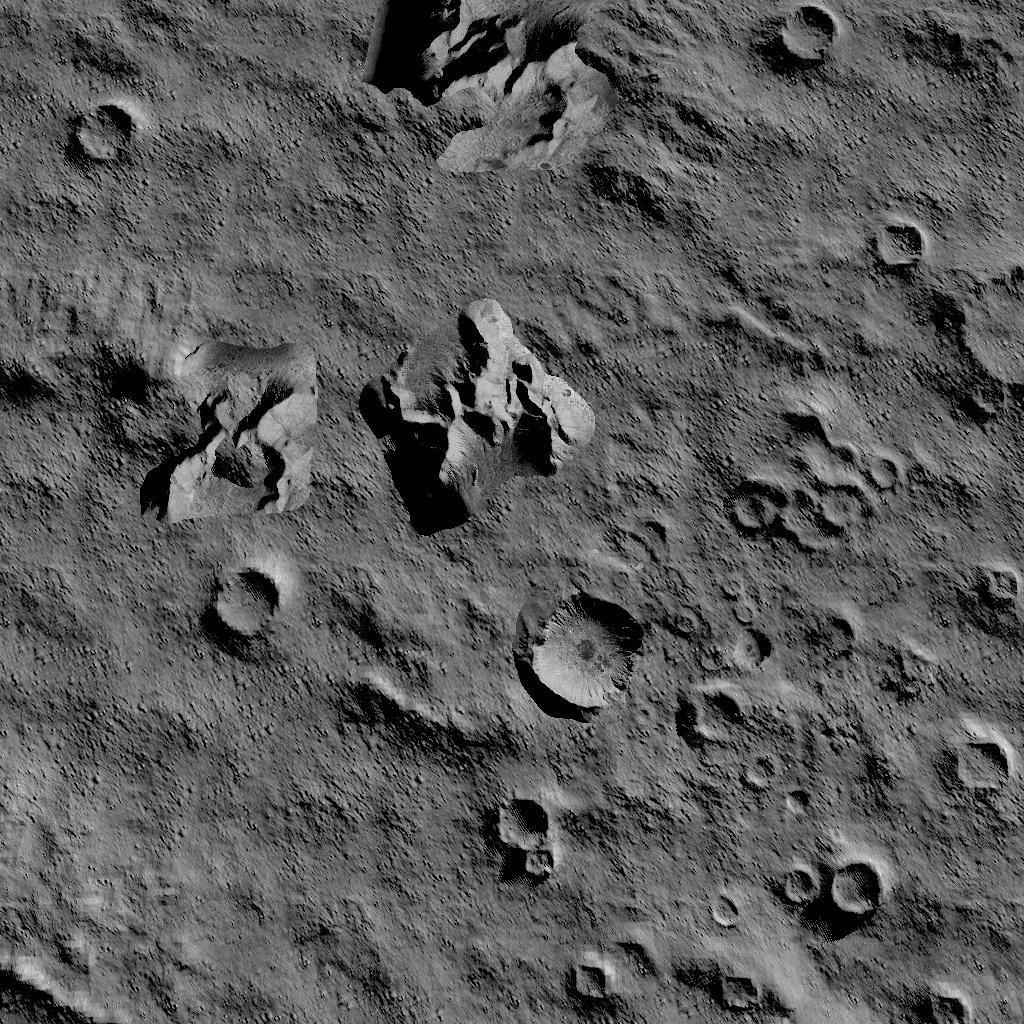Boulders: (358, 306, 597, 530), (363, 0, 639, 174), (101, 336, 314, 528)
Crater: (722, 410, 898, 558), (515, 596, 644, 721), (948, 268, 1024, 418), (203, 566, 282, 644), (779, 859, 885, 916), (488, 799, 560, 881), (64, 100, 141, 168), (675, 690, 749, 750), (773, 2, 842, 64), (947, 737, 1015, 798), (870, 221, 935, 276), (708, 966, 766, 1014), (972, 565, 1024, 609), (568, 959, 614, 1007), (723, 628, 768, 676), (917, 988, 975, 1024), (703, 892, 744, 932), (733, 756, 776, 786), (782, 795, 814, 822)
Plan surface: (3, 752, 475, 968), (155, 0, 349, 322), (677, 82, 1024, 214), (3, 536, 191, 744)
